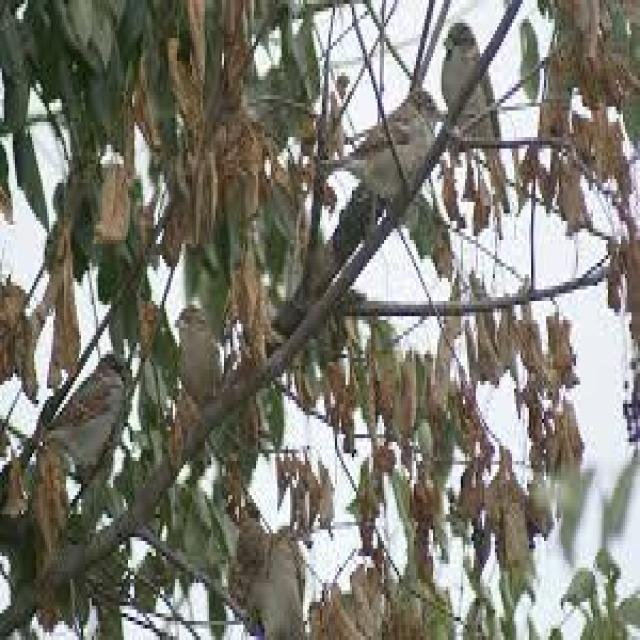bird: (323, 93, 446, 217), (33, 352, 132, 480), (443, 23, 507, 165), (172, 301, 230, 401)
